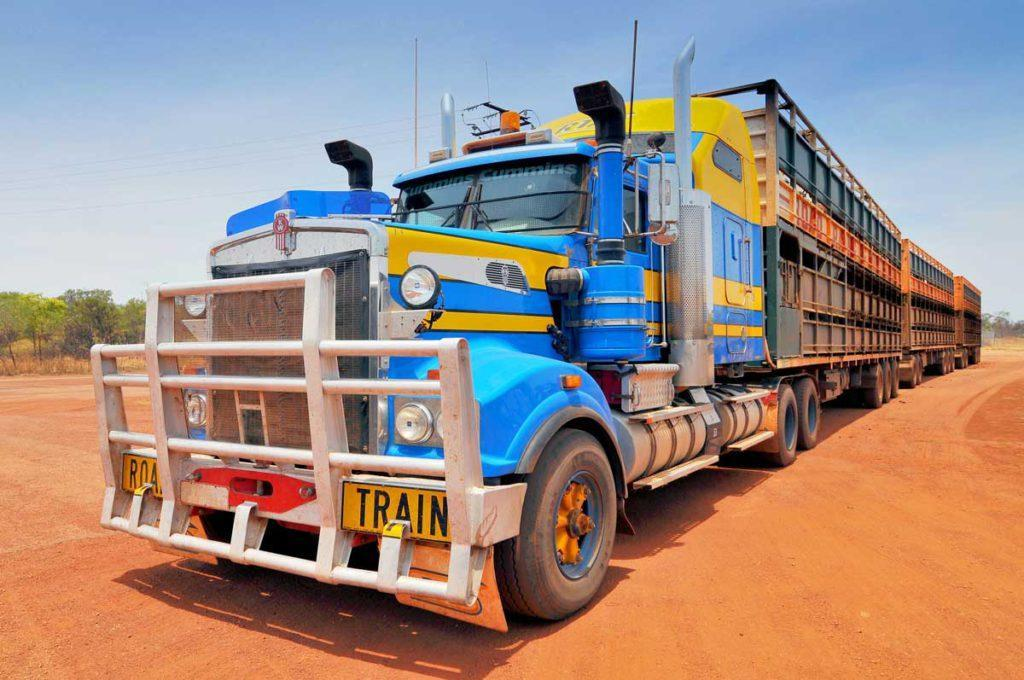truck: (90, 79, 981, 629)
